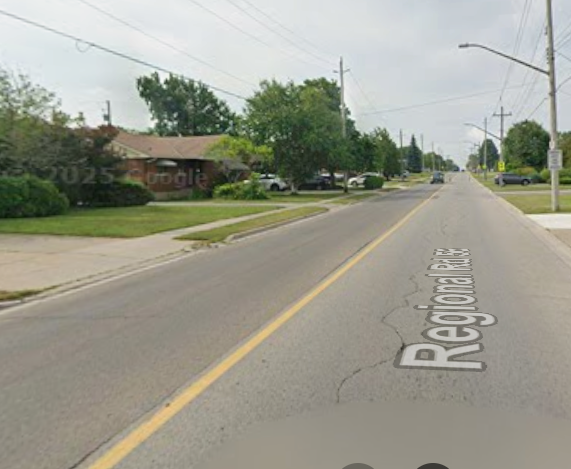cracks: (318, 329, 429, 403), (367, 269, 430, 329)
